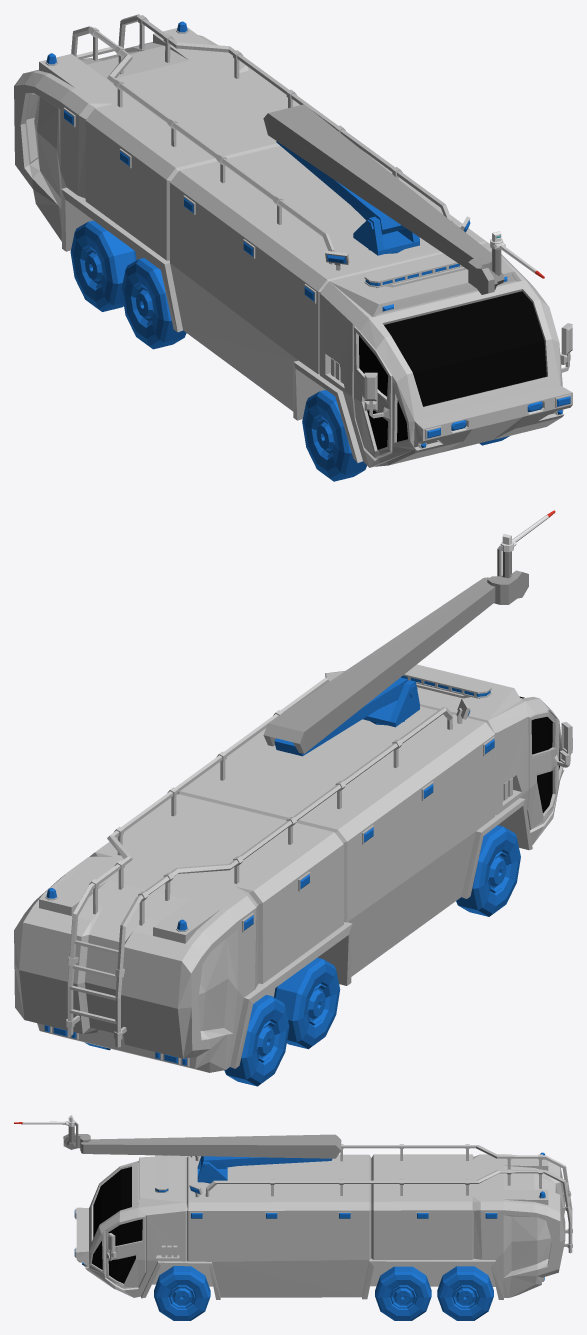
File: SM_fire_engine.fbx
The picture shows the model from 3 angles, top to bottom: view 1: azimuth 30°, elevation 25°; view 2: azimuth 150°, elevation 25°; view 3: azimuth 270°, elevation 25°; orthographic projection. The views are drawn at different scales.
Parts seen in each view (by area): view 1: Symmetry_8, Cube_5, Cylinder_3_2_2, Cylinder_3_2_1, Cylinder_3_2, Cylinder_9_1, Cylinder_12, Cube_2; view 2: Symmetry_8, Cube_5, Cylinder_3_2_1, Cylinder_3_2_2, Cylinder_3_2, Cylinder_9_1, Cylinder_12, Cube_2; view 3: Symmetry_8, Cube_5, Cylinder_3_3, Cylinder_3_2_2, Cylinder_3_2_1, Cylinder_12, Cylinder_9_1, Cube_2.
Boxes of the visible parts, x1,y1,x2,y2 form: Symmetry_8: (14,14,572,467); Cube_5: (263,104,491,269); Cylinder_3_2_2: (70,220,136,311); Cylinder_3_2_1: (121,258,186,349); Cylinder_3_2: (302,390,366,481); Cylinder_9_1: (468,231,544,294); Cylinder_12: (276,141,406,234); Cube_2: (353,216,419,255); Symmetry_8: (14,664,572,1072); Cube_5: (263,577,495,753); Cylinder_3_2_1: (274,957,340,1049); Cylinder_3_2_2: (85,995,289,1086); Cylinder_3_2: (456,825,520,916); Cylinder_9_1: (487,510,555,604); Cylinder_12: (274,677,417,756); Cube_2: (363,680,419,727); Symmetry_8: (74,1144,572,1299); Cube_5: (81,1134,341,1158); Cylinder_3_3: (154,1266,210,1320); Cylinder_3_2_2: (437,1266,493,1320); Cylinder_3_2_1: (375,1266,431,1320); Cylinder_12: (201,1156,332,1171); Cylinder_9_1: (14,1115,90,1150); Cube_2: (197,1156,227,1183).
Bounding box in the file's own units: 3151 × 4219 × 12001.
